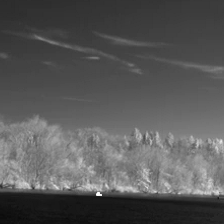Target: (95, 191, 103, 197)
